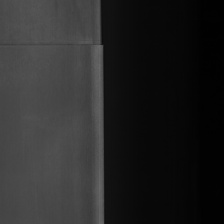welding_line: (0, 36, 111, 53)
